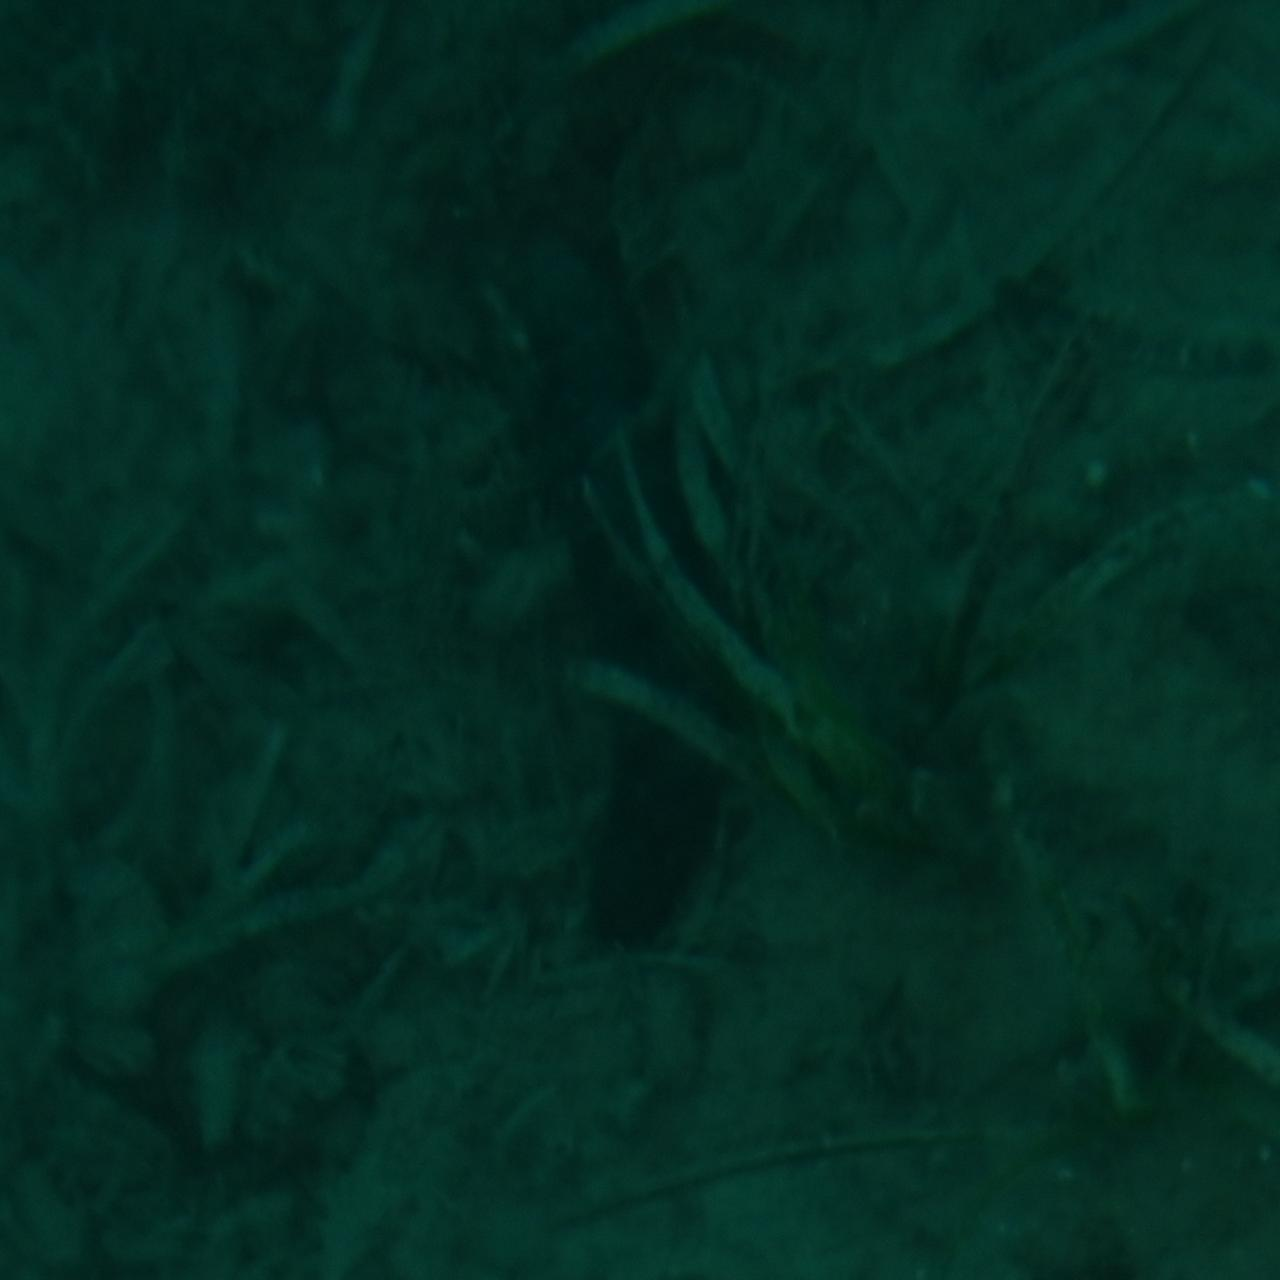Holothuria tubulosa: (508, 115, 772, 985)
